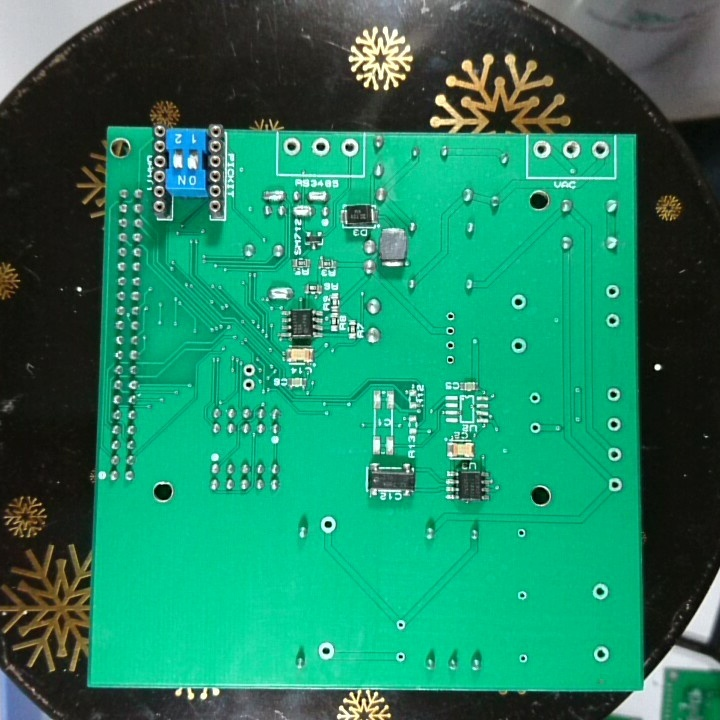F: (317, 512, 341, 537), (337, 136, 360, 160), (532, 138, 554, 161), (589, 138, 611, 161), (507, 334, 529, 357), (315, 640, 337, 663), (308, 137, 331, 158), (561, 138, 582, 161), (590, 581, 611, 604), (591, 643, 612, 666), (508, 290, 528, 314), (281, 135, 302, 157), (605, 444, 625, 465), (605, 475, 625, 495), (603, 310, 622, 330), (603, 281, 622, 300), (605, 415, 624, 434), (241, 360, 259, 378), (605, 386, 624, 403), (514, 586, 530, 605), (239, 377, 258, 393), (442, 322, 459, 339), (516, 649, 532, 667), (527, 389, 542, 408), (528, 419, 542, 438), (443, 308, 459, 324), (393, 618, 409, 634), (442, 337, 459, 352), (393, 649, 408, 666), (514, 524, 528, 542), (443, 352, 458, 368)
P: (264, 283, 294, 301), (259, 186, 287, 204), (289, 203, 317, 219), (305, 187, 331, 204)
